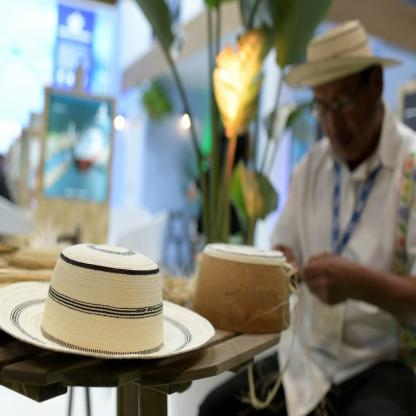hat: (3, 239, 222, 370)
